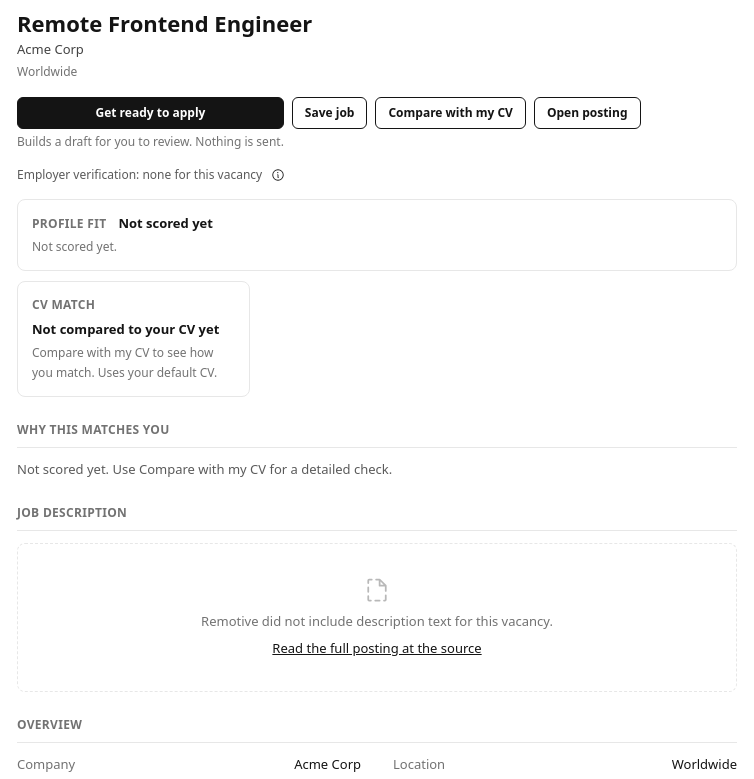
VacancyDetail employer verification (issue #465) › takes one line, with the explanation behind an info toggle and shown once when opened
The image size is (754, 779).
Expected: the text "Employer verification: none for this vacancy" is shown, x1=17 y1=166 x2=262 y2=184
Step 1. Click the button named "About employer verification" → (278, 175), box x1=266 y1=163 x2=290 y2=187
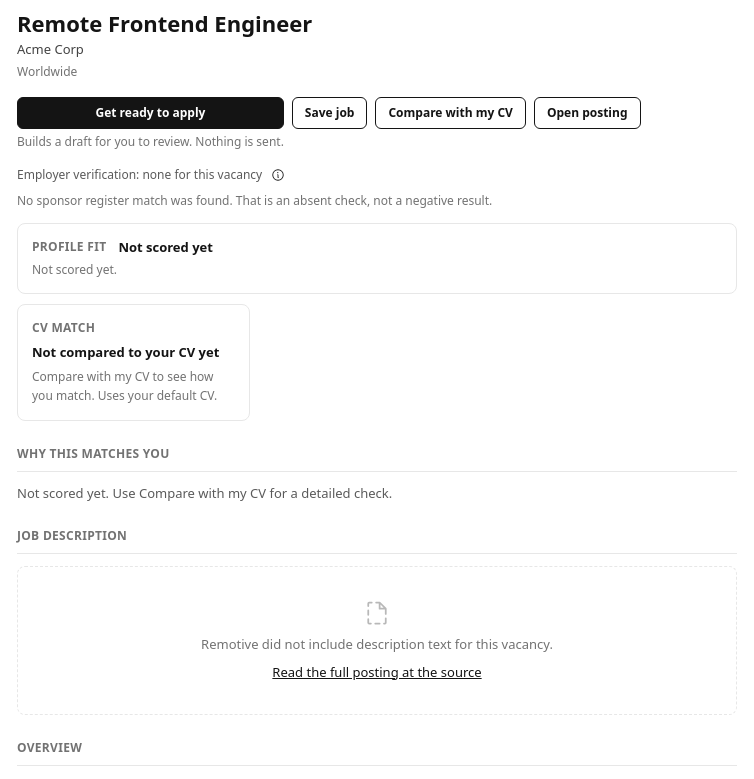
Result: the text "No sponsor register match was found. That is an absent check, not a negative result." is shown once at x1=17 y1=192 x2=492 y2=209
